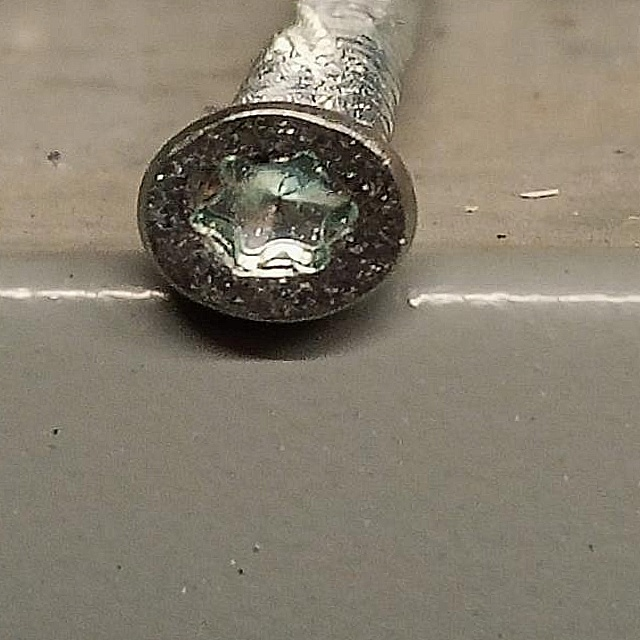torx: (136, 100, 421, 329)
